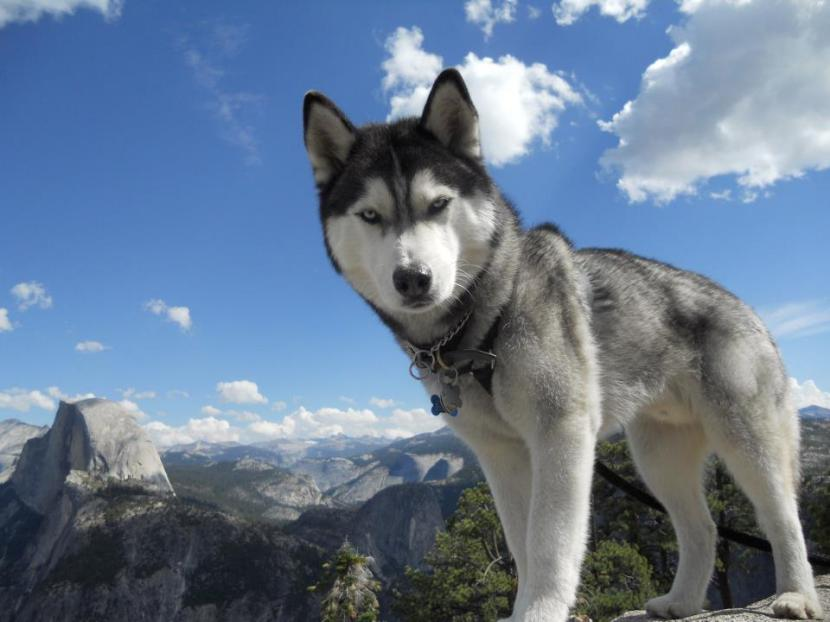husky: (276, 78, 823, 610)
